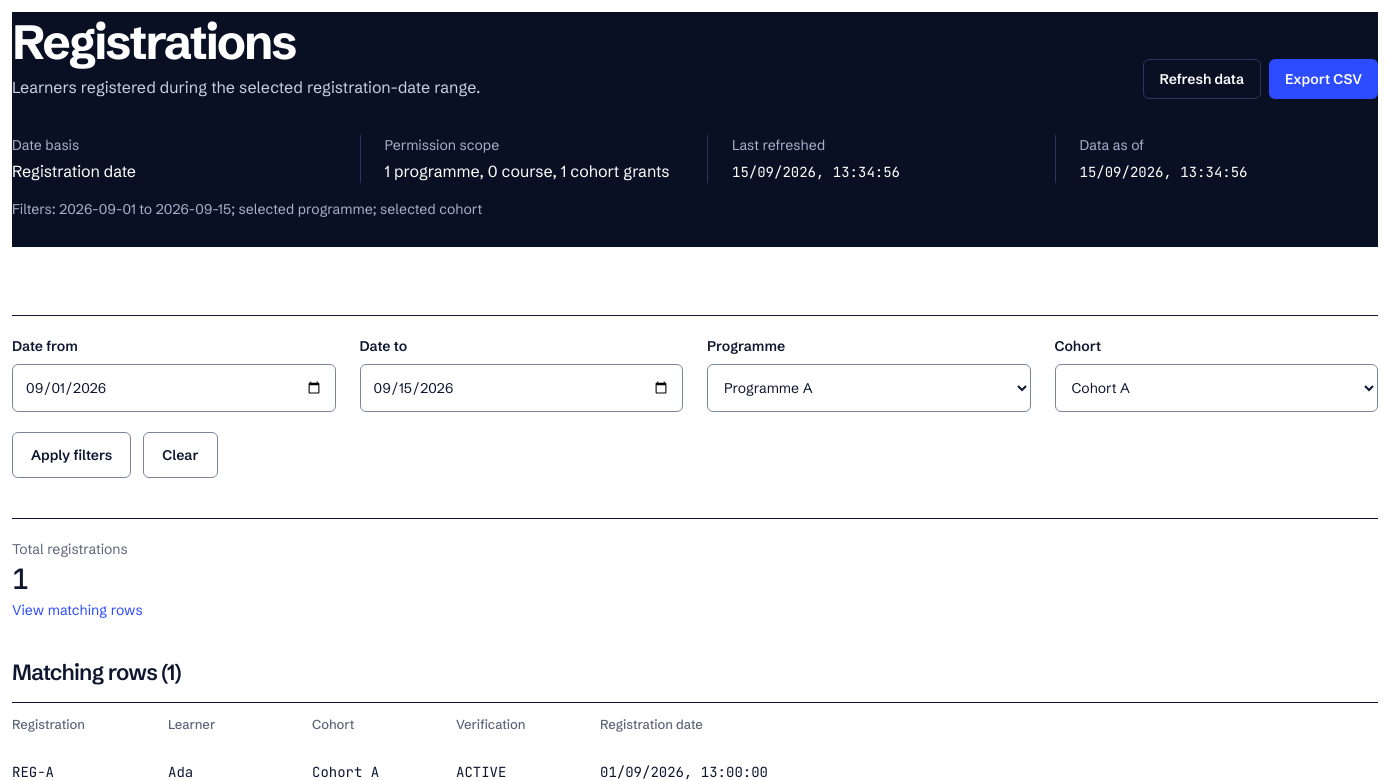
Test: ReportDashboard › queues normalized active filters and safe columns with the rendered as-of
Click the button "Export CSV".
click(1324, 79)  # box [1269, 59, 1378, 99]
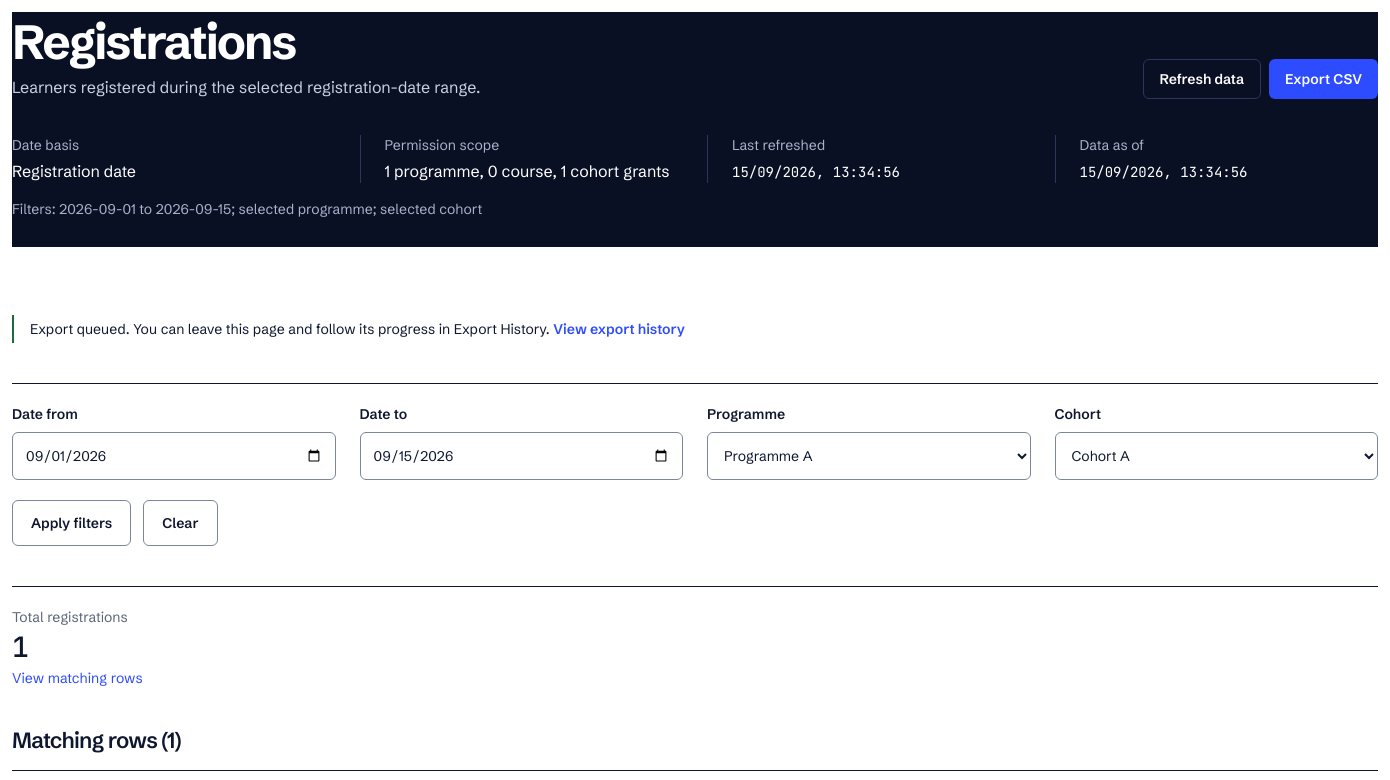
Result: the message shows "Export queued" at [30, 320, 553, 338]
Result: the link "View export history" is shown at [553, 320, 685, 338]
